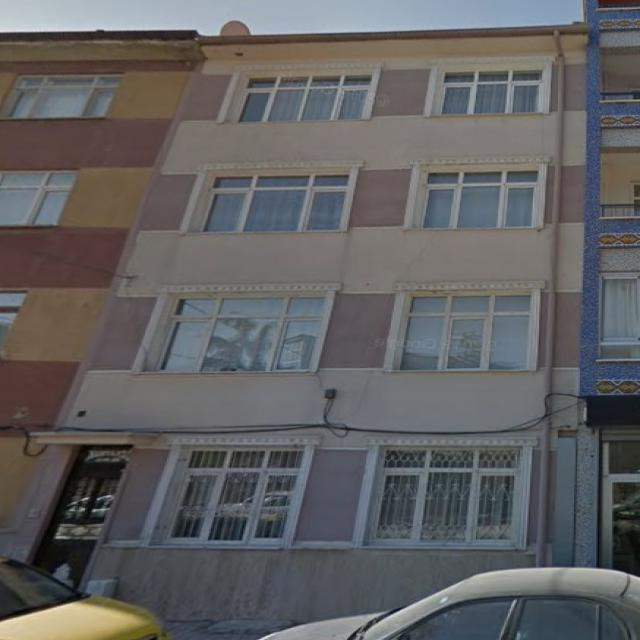Building: (5, 23, 590, 619)
